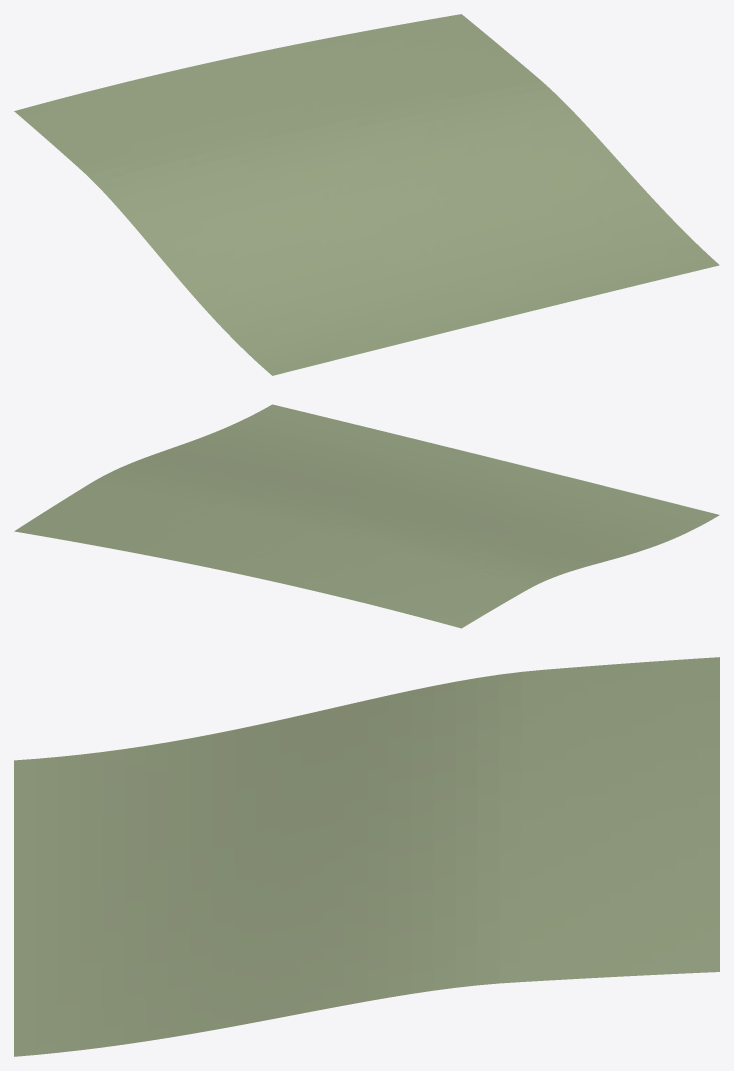
File: valley-2-7.glb
The picture shows the model from 3 angles, top to bottom: view 1: azimuth 30°, elevation 25°; view 2: azimuth 150°, elevation 25°; view 3: azimuth 270°, elevation 25°; orthographic projection. The views are drawn at different scales.
Parts seen in each view (by area): view 1: valley-2-7; view 2: valley-2-7; view 3: valley-2-7.
Boxes of the visible parts, bbox=[...] form: valley-2-7: bbox=[14, 14, 719, 375]; valley-2-7: bbox=[14, 404, 719, 628]; valley-2-7: bbox=[14, 657, 719, 1056].
Size of the model in its own units: 256 by 42.29 by 256.
